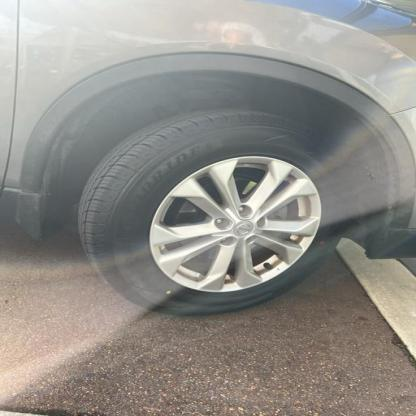Tire: (78, 106, 354, 318)
